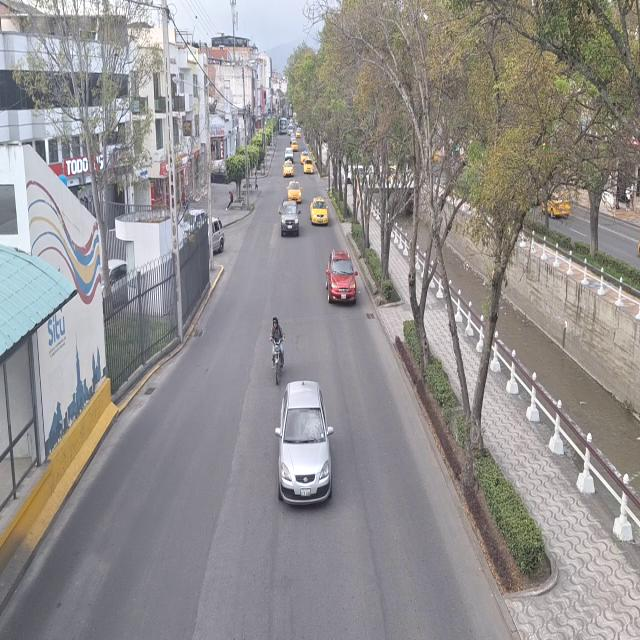CMT: (280, 200, 298, 233)
MOTORCYCLE: (270, 336, 283, 385)
SED: (275, 384, 330, 506), (311, 201, 328, 226)
SUV: (330, 254, 358, 303)
